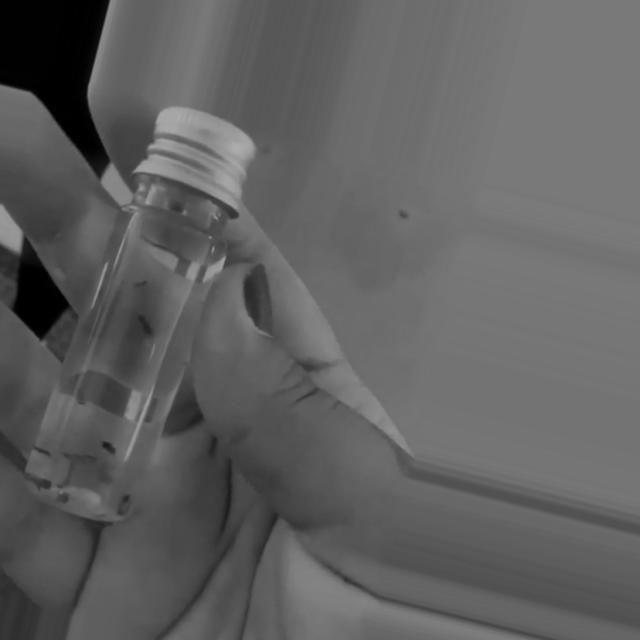larvas: (140, 306, 156, 338), (28, 469, 53, 489), (64, 450, 94, 465), (114, 492, 134, 513), (58, 464, 74, 489), (34, 442, 56, 460), (97, 464, 114, 486), (132, 276, 154, 290), (99, 440, 119, 452), (56, 492, 70, 503)
